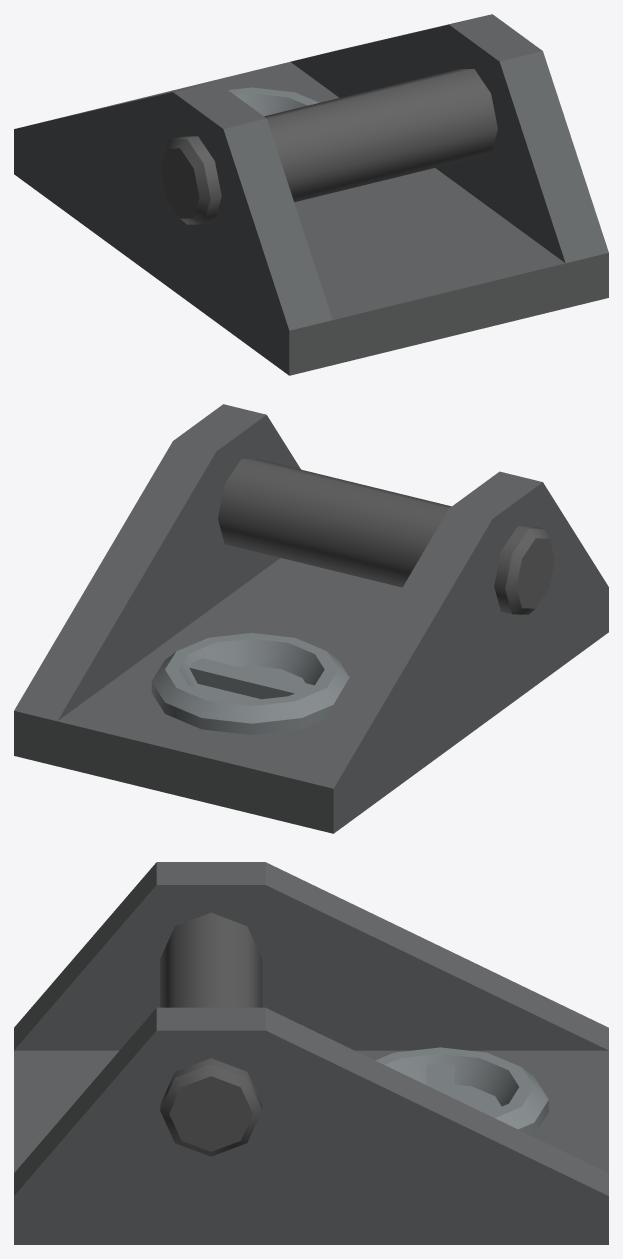
Rendered from Turret_011_Part_01.fbx.
The picture shows the model from 3 angles, top to bottom: view 1: azimuth 30°, elevation 25°; view 2: azimuth 150°, elevation 25°; view 3: azimuth 270°, elevation 25°; orthographic projection. The views are drawn at different scales.
Parts seen in each view (by area): view 1: Turret_011_Part_01; view 2: Turret_011_Part_01; view 3: Turret_011_Part_01.
Boxes of the visible parts, <box> form: Turret_011_Part_01: <box>14,14,608,375</box>; Turret_011_Part_01: <box>14,404,608,833</box>; Turret_011_Part_01: <box>14,862,608,1244</box>.
Bounding box in the file's own units: 51.36 × 68.9 × 30.81.
